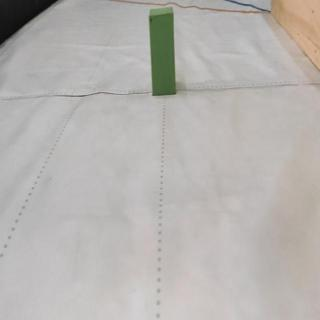greenbox: (150, 9, 176, 95)
